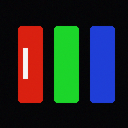4 line_v: (23, 48, 27, 78)
